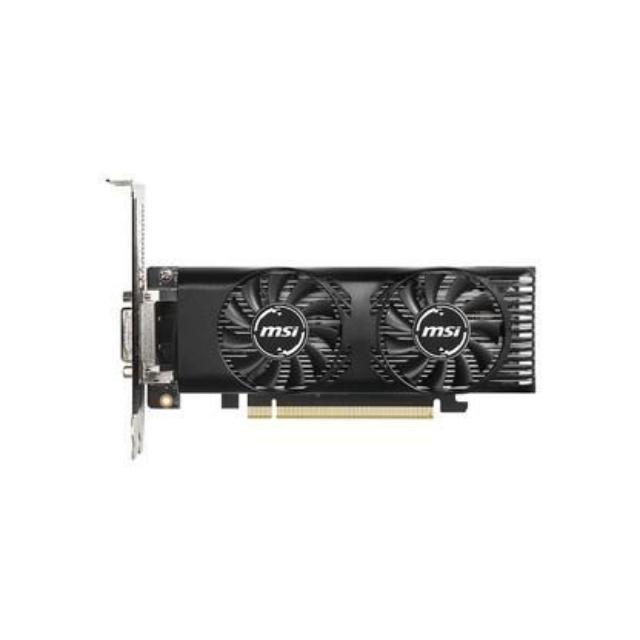GPU: (130, 257, 536, 420)
